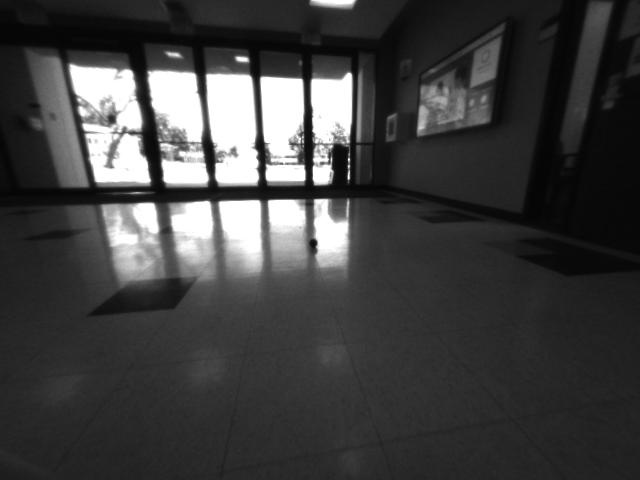dogtoy: (304, 232, 328, 257)
